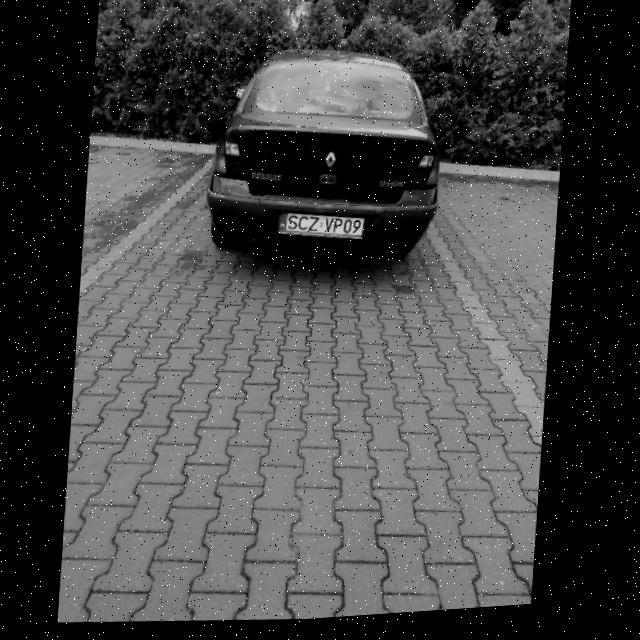license-plates: (280, 213, 364, 237)
